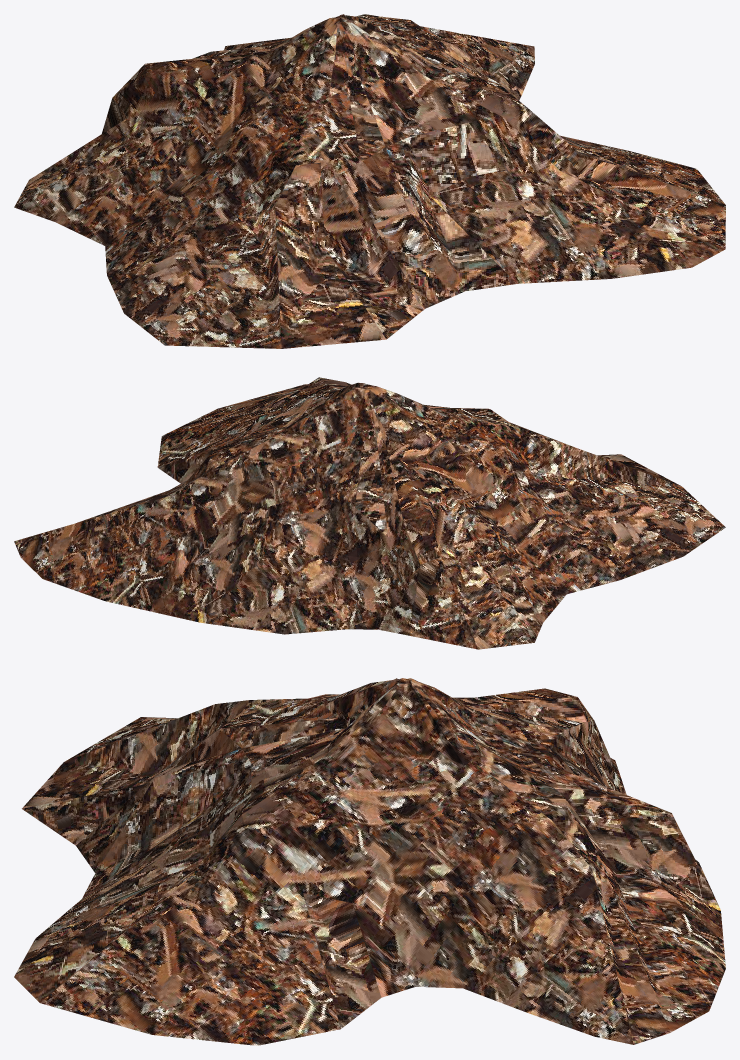
Rendered from ScrapMetalPileMed.glb.
3 renders of one model, top to bottom at view 1: azimuth 30°, elevation 25°; view 2: azimuth 150°, elevation 25°; view 3: azimuth 270°, elevation 25°, orthographic. The views are drawn at different scales.
Parts seen in each view (by area): view 1: Cube; view 2: Cube; view 3: Cube.
Boxes of the visible parts, <box> form: Cube: <box>14,14,725,348</box>; Cube: <box>14,377,725,649</box>; Cube: <box>14,678,725,1045</box>.
Size of the model in its own units: 9.68 by 2.78 by 8.91.
Materials: 1 (1 with a texture image).
